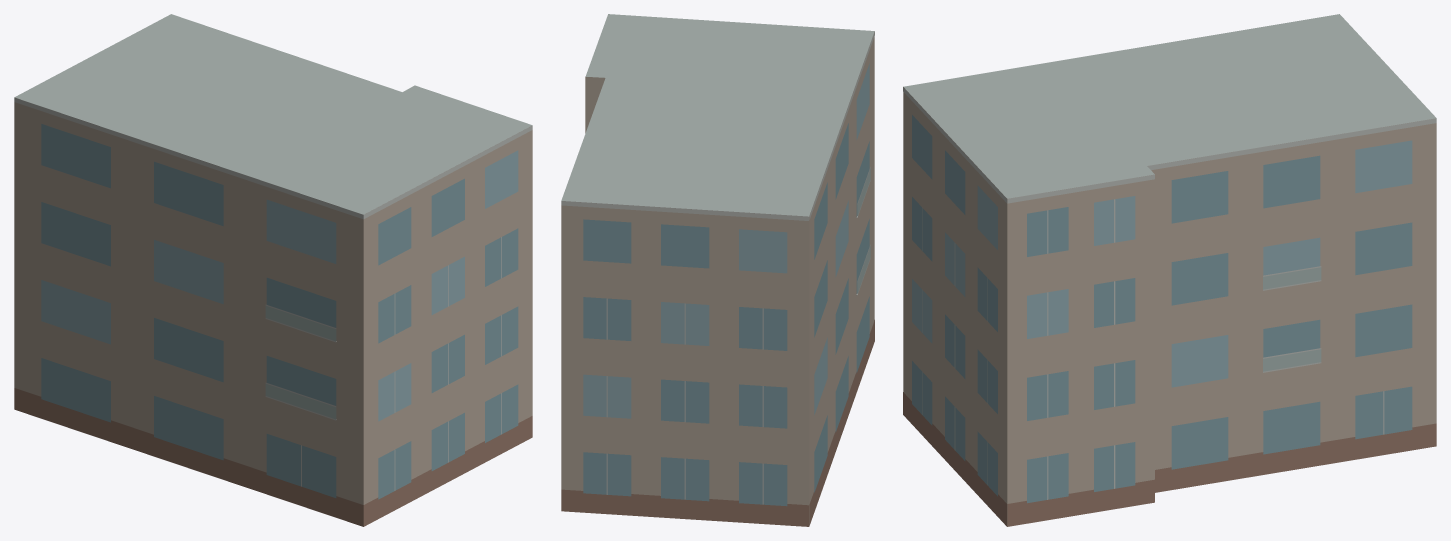
Rendered from survey-upis-32863551.glb.
3 renders of one model, left to right at view 1: azimuth 30°, elevation 25°; view 2: azimuth 150°, elevation 25°; view 3: azimuth 270°, elevation 25°, orthographic. The views are drawn at different scales.
Visible parts, largest first — view 1: survey-upis-32863551.tmp; view 2: survey-upis-32863551.tmp; view 3: survey-upis-32863551.tmp.
Part boxes in pixels (x1=…): survey-upis-32863551.tmp: x1=14, y1=14, x2=532, y2=526; survey-upis-32863551.tmp: x1=561, y1=14, x2=874, y2=526; survey-upis-32863551.tmp: x1=903, y1=14, x2=1436, y2=526.
Bounding box in the file's own units: 20.03 × 16.57 × 24.43.
